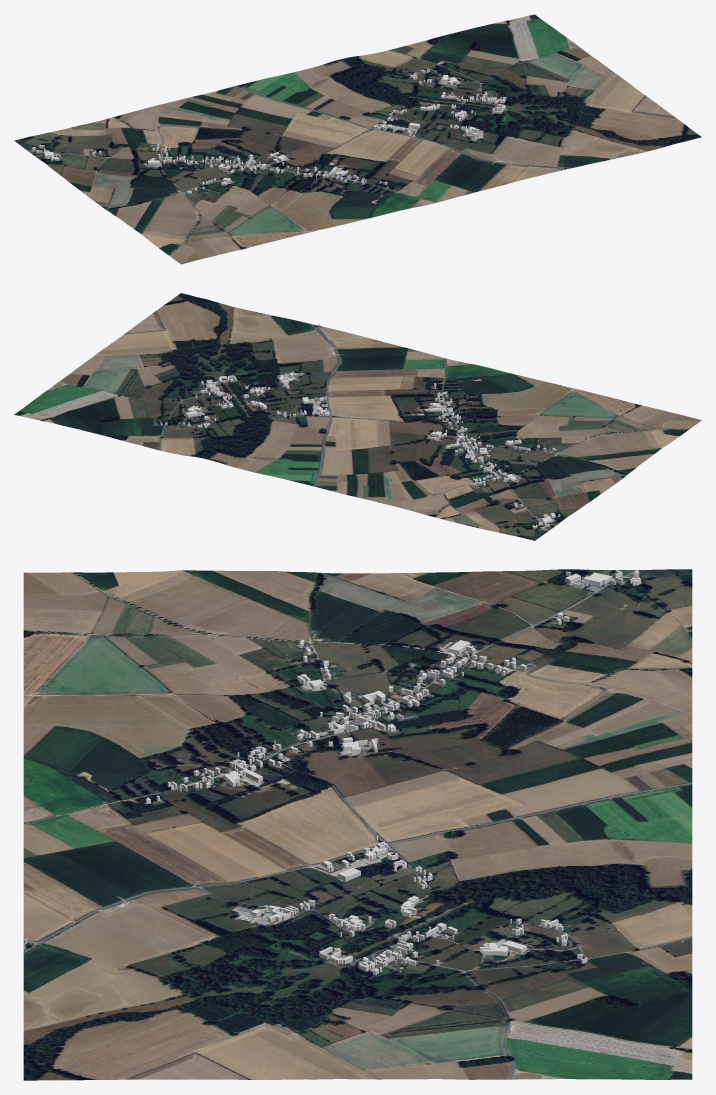
Rendered from Agincourt.glb.
3 views of the same model, one above another, from view 1: azimuth 30°, elevation 25°; view 2: azimuth 150°, elevation 25°; view 3: azimuth 270°, elevation 25° (orthographic). The views are drawn at different scales.
Parts seen in each view (by area): view 1: EXPORT_GOOGLE_SAT_WM, Areas:building; view 2: EXPORT_GOOGLE_SAT_WM, Areas:building; view 3: EXPORT_GOOGLE_SAT_WM, Areas:building.
Part boxes in pixels (x1=…): EXPORT_GOOGLE_SAT_WM: x1=14, y1=14, x2=701, y2=264; Areas:building: x1=32, y1=61, x2=563, y2=193; EXPORT_GOOGLE_SAT_WM: x1=14, y1=293, x2=701, y2=540; Areas:building: x1=160, y1=324, x2=560, y2=530; EXPORT_GOOGLE_SAT_WM: x1=23, y1=569, x2=692, y2=1080; Areas:building: x1=24, y1=570, x2=641, y2=974.
Size of the model in its own units: 5503 by 48.01 by 3057.
Materials: 1 (1 with a texture image).
